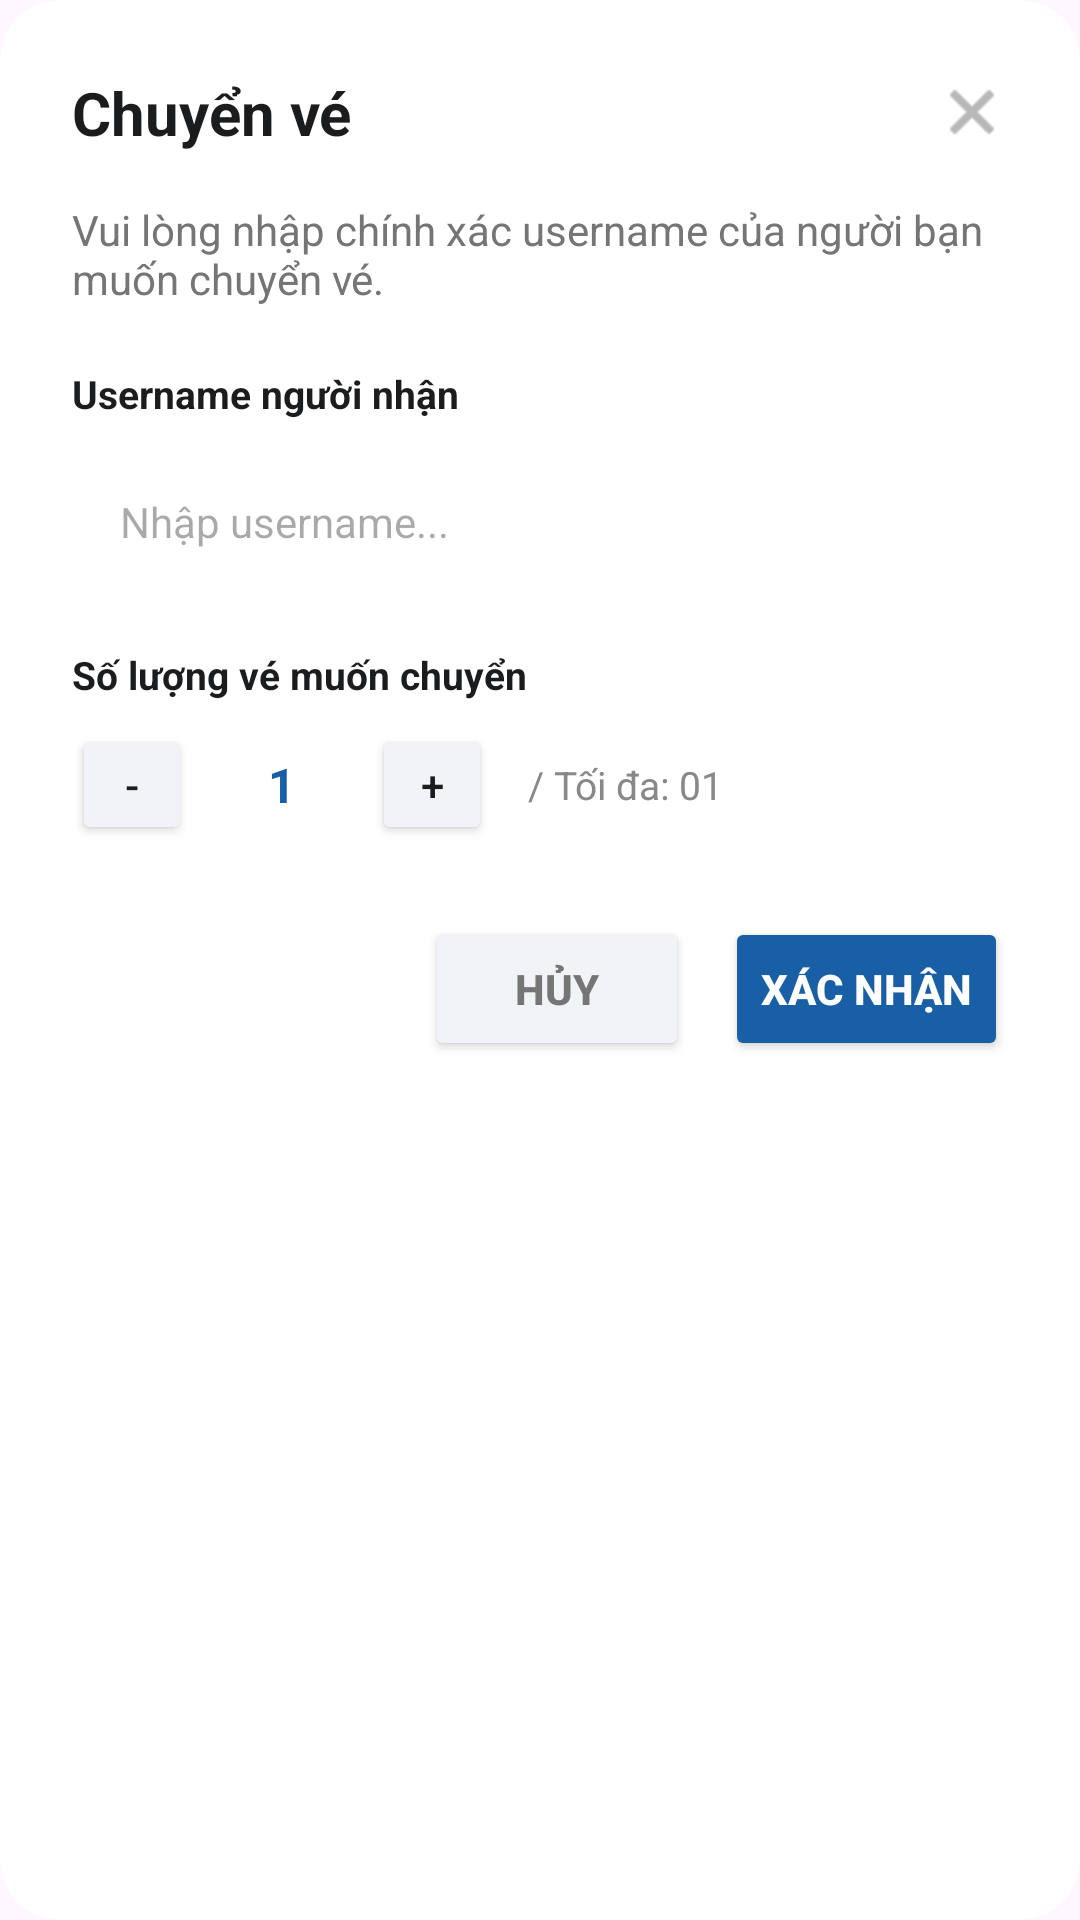

Point at icon controls on the screen. Image size 1080*1920, points as (x=x, y=y).
Close: (x=972, y=112)
